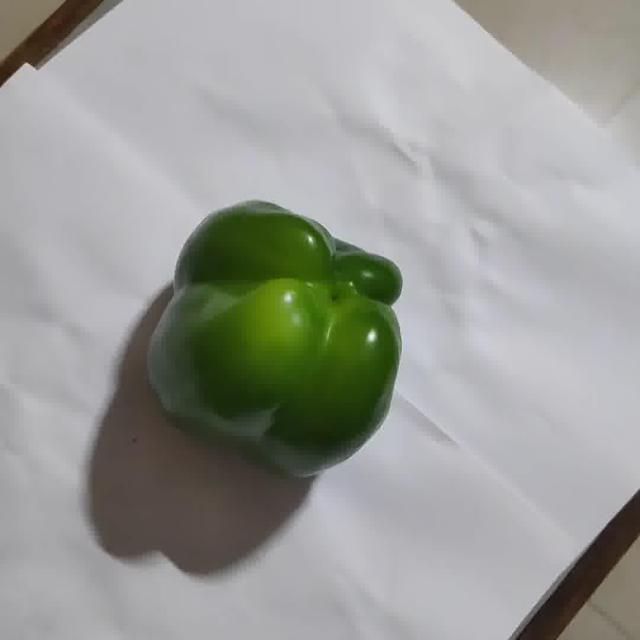Bell Pepper: (149, 201, 401, 479)
